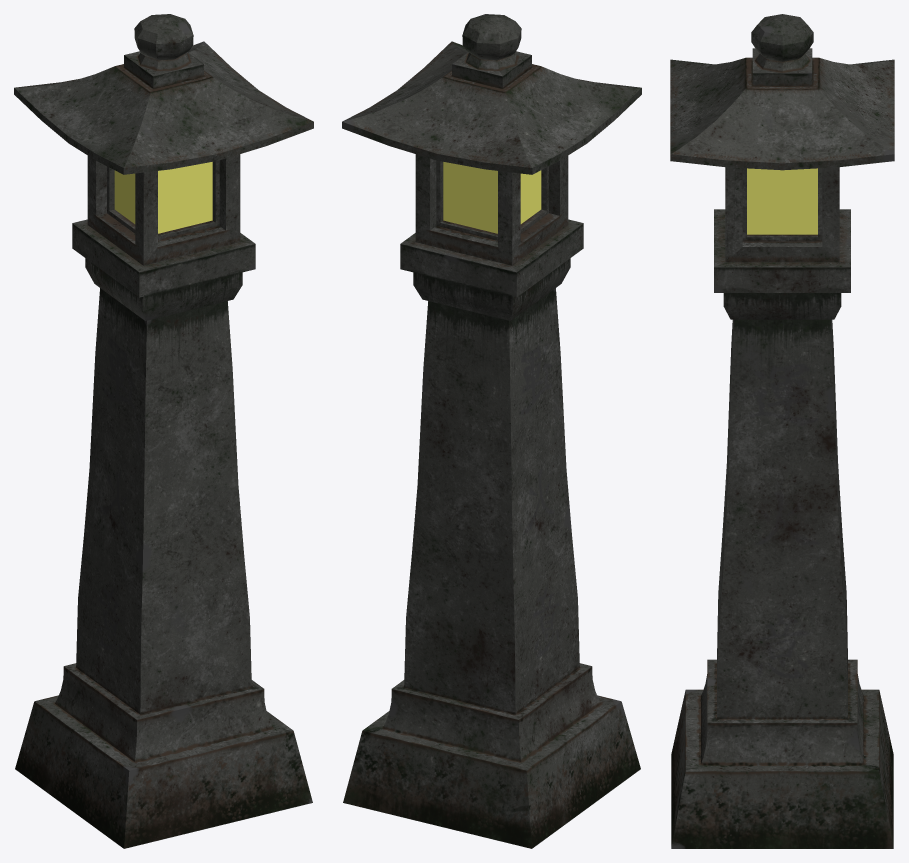
The model's file is Japanese-Lantern-on.fbx.
3 views of the same model, side by side, from view 1: azimuth 30°, elevation 25°; view 2: azimuth 150°, elevation 25°; view 3: azimuth 270°, elevation 25° (orthographic). The views are drawn at different scales.
Visible parts, largest first — view 1: Cube.001; view 2: Cube.001; view 3: Cube.001.
Part boxes in pixels (box(x1,y1,x2,y2)): Cube.001: box(14, 14, 313, 848); Cube.001: box(342, 14, 641, 848); Cube.001: box(670, 14, 894, 848).
Bounding box in the file's own units: 38.39 × 148 × 38.39.
